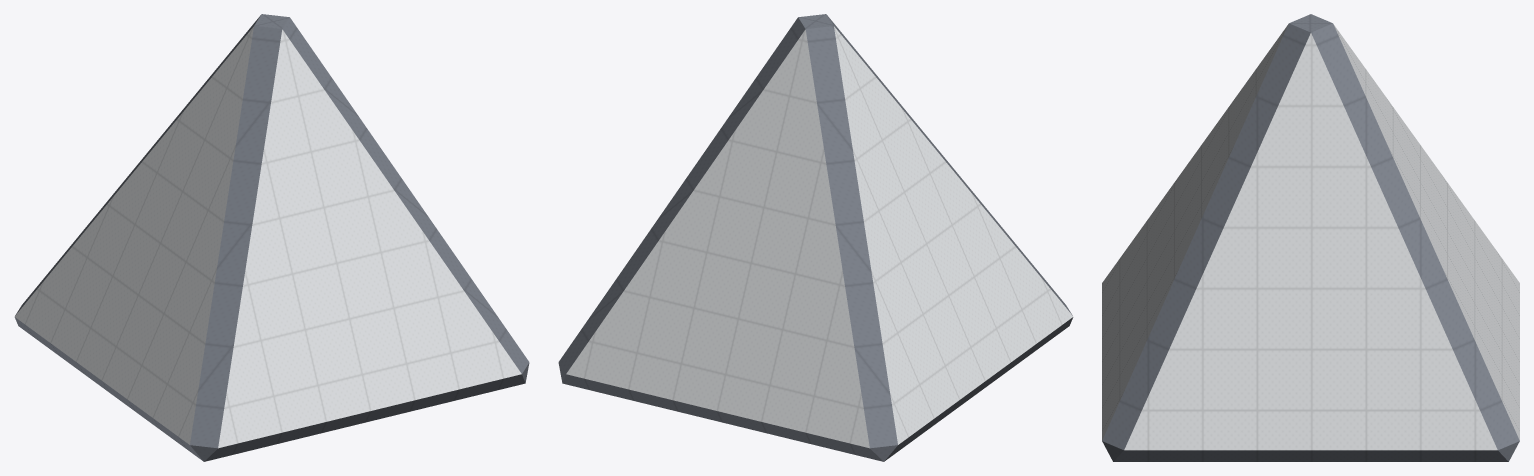
The picture shows the model from 3 angles, left to right: view 1: azimuth 30°, elevation 25°; view 2: azimuth 150°, elevation 25°; view 3: azimuth 270°, elevation 25°; orthographic projection. The views are drawn at different scales.
Parts seen in each view (by area): view 1: R4B_Pyramid_LOD1; view 2: R4B_Pyramid_LOD1; view 3: R4B_Pyramid_LOD1.
Part boxes in pixels (bbox=[...]): R4B_Pyramid_LOD1: bbox=[14, 14, 529, 461]; R4B_Pyramid_LOD1: bbox=[558, 14, 1073, 461]; R4B_Pyramid_LOD1: bbox=[1102, 14, 1519, 461].
Size of the model in its own units: 0.4985 by 0.4674 by 0.4985.
Materials: 2 (2 with a texture image).
